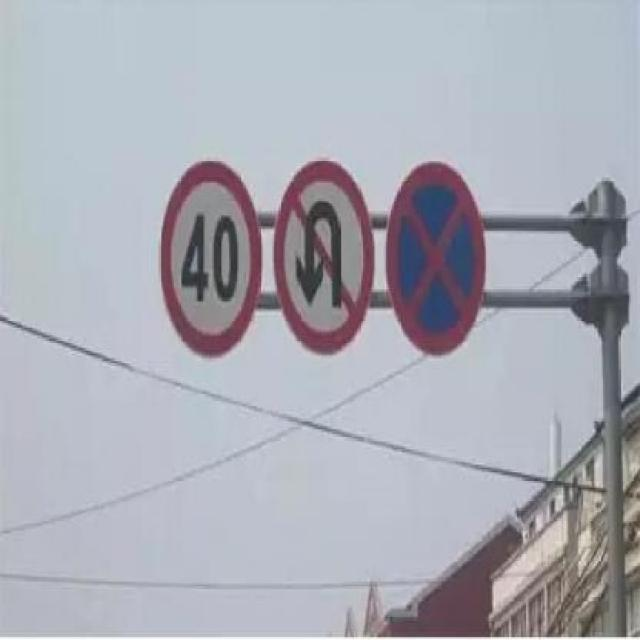forb_speed_over_40: (161, 161, 257, 355)
